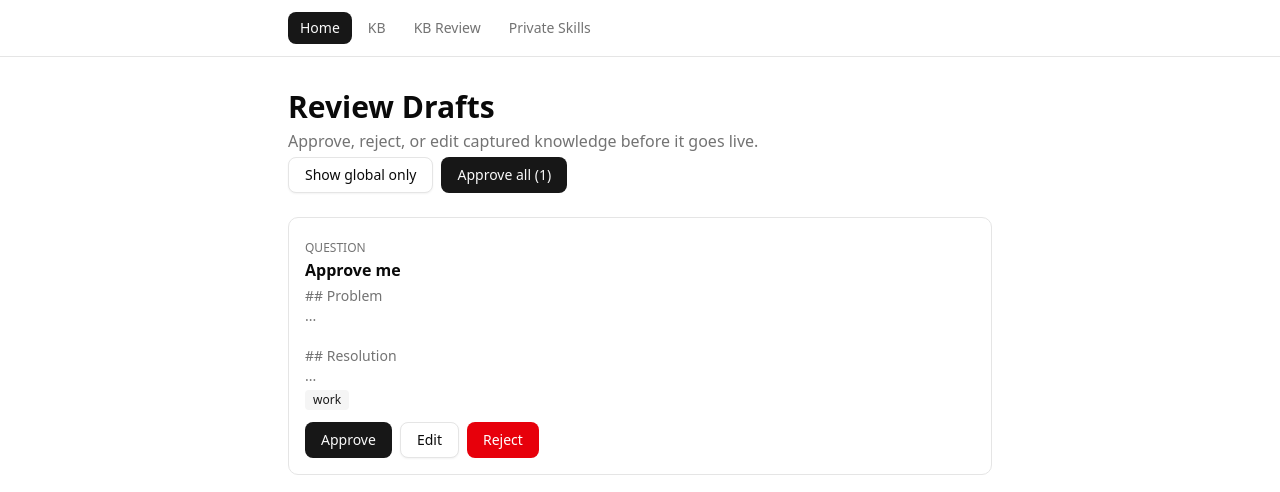
Test: KB Review screen › removes a draft from the list after the reviewer approves it
The width and height of the screenshot is (1280, 492).
Expected: the heading "Approve me" is shown, [305,259,401,281]
Click the button "Approve" at (348,440), box [305,422,392,458]
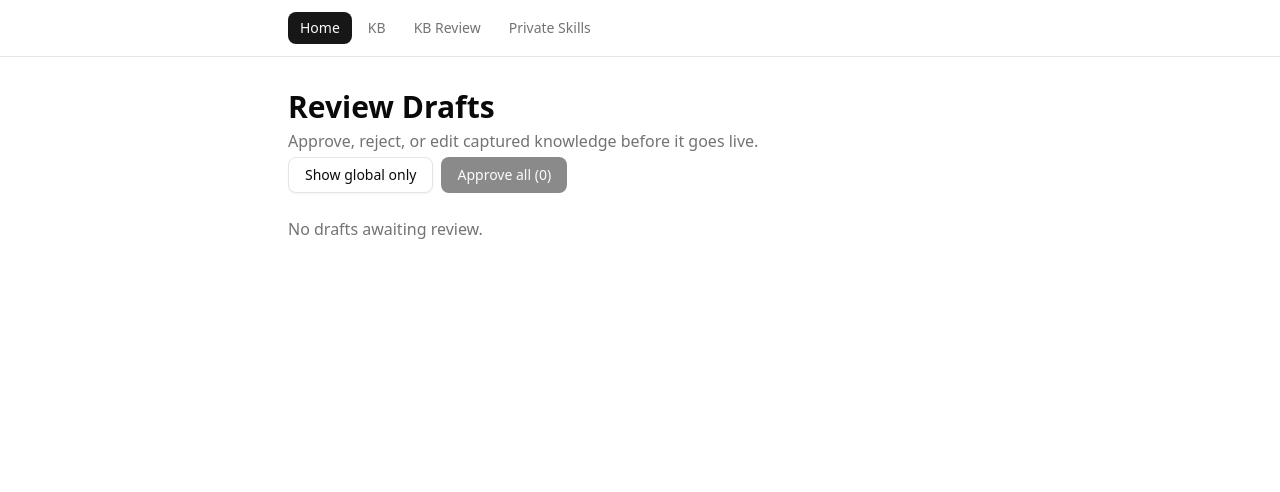
Expected: the heading "Approve me" is gone
